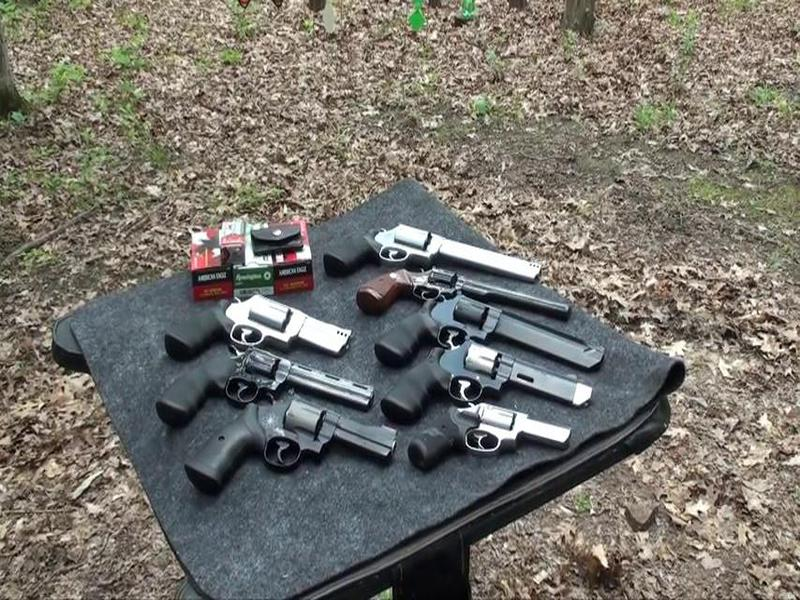Revolver: (376, 291, 619, 389), (125, 287, 373, 370), (319, 221, 539, 291), (417, 395, 587, 478)
